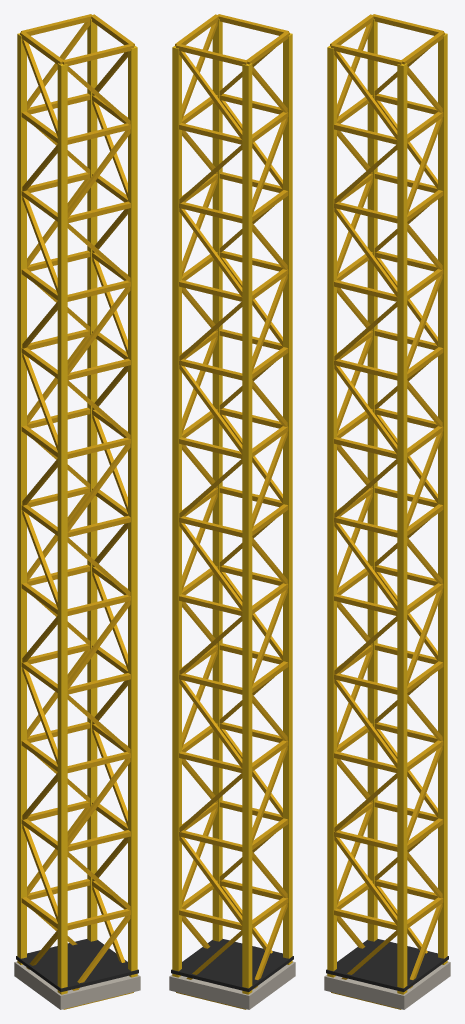
File: crane-mast.glb
The picture shows the model from 3 angles, left to right: view 1: azimuth 30°, elevation 25°; view 2: azimuth 150°, elevation 25°; view 3: azimuth 330°, elevation 25°; orthographic projection.
Parts seen in each view (by area): view 1: crane-mast; view 2: crane-mast; view 3: crane-mast.
Boxes of the visible parts, left/top/right/bottom form: crane-mast: left=14, top=14, right=140, bottom=1009; crane-mast: left=169, top=14, right=295, bottom=1009; crane-mast: left=324, top=14, right=450, bottom=1009.
Size of the model in its own units: 3.6 by 40.7 by 3.6.
